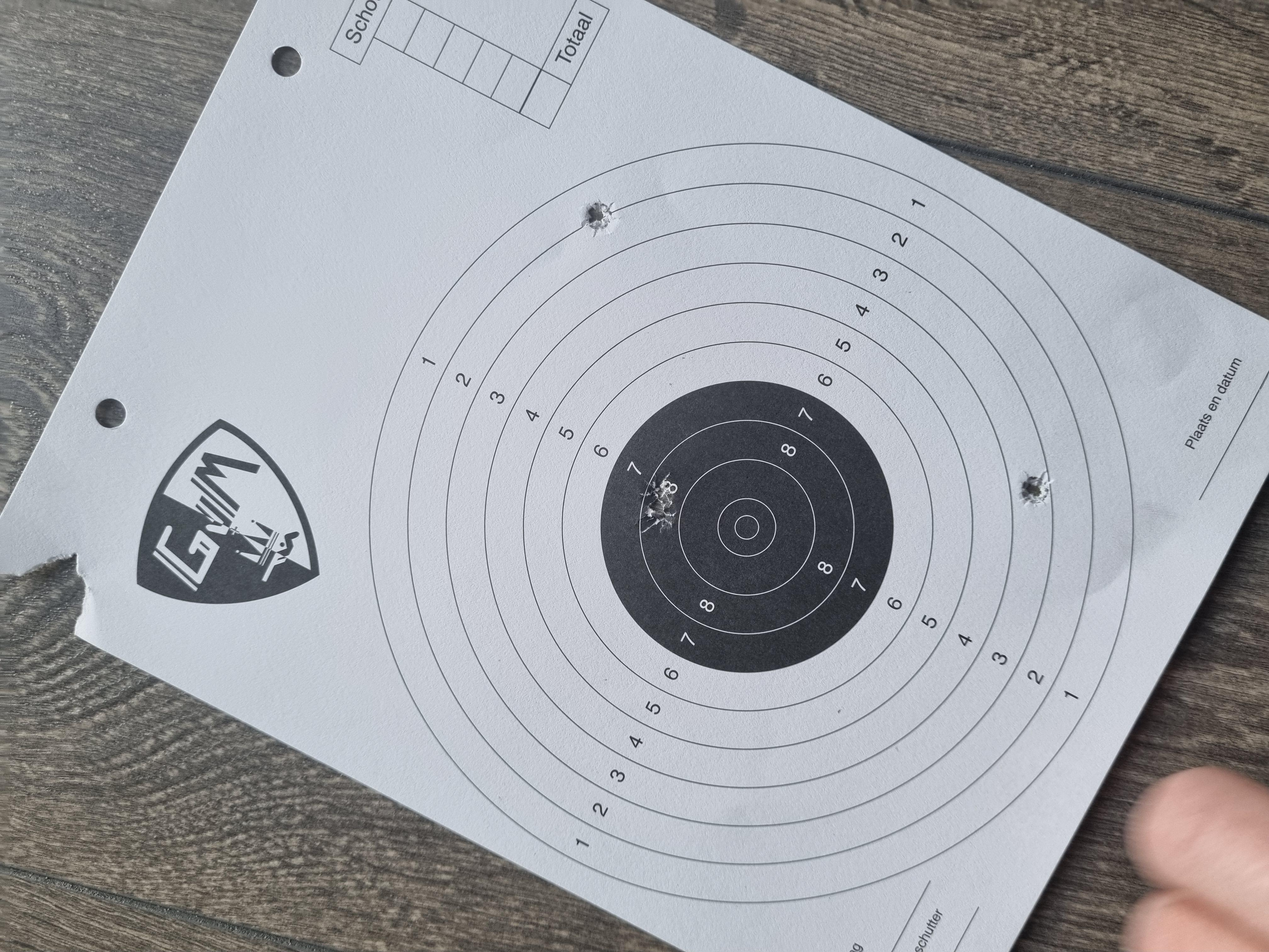hole: (952, 436, 1003, 462), (592, 764, 643, 788), (601, 483, 641, 507), (565, 481, 599, 508)
